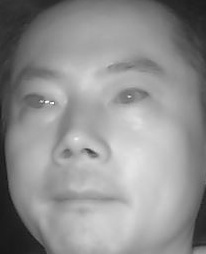eye: (109, 83, 155, 111), (17, 88, 60, 115)
mouth: (46, 175, 124, 217)
